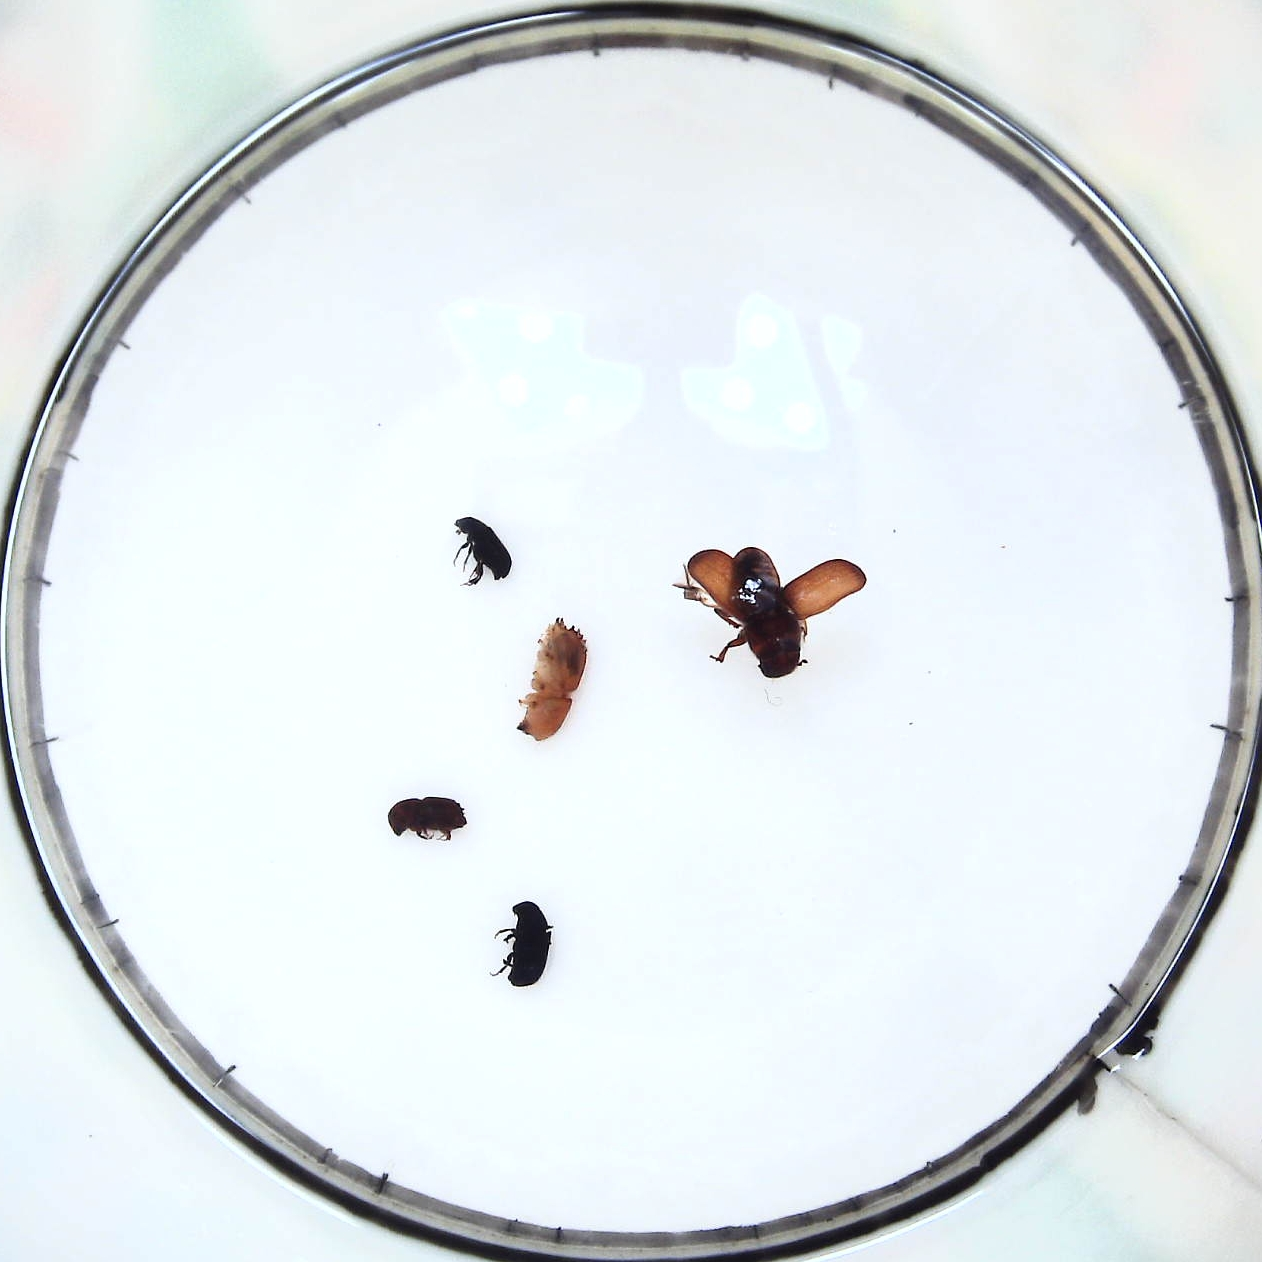Boerner: (515, 616, 591, 741)
Leconte: (682, 539, 871, 678)
Linnaeus: (380, 795, 467, 837)
armandi: (500, 896, 551, 989)
coleoptera: (450, 513, 513, 587)
